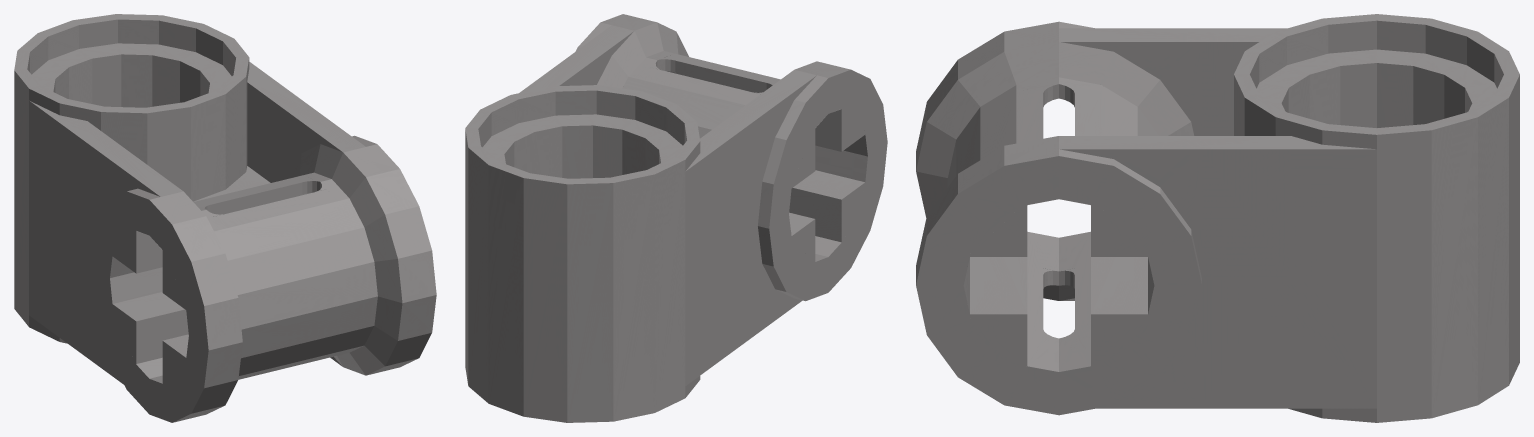
3 renders of one model, left to right at view 1: azimuth 30°, elevation 25°; view 2: azimuth 150°, elevation 25°; view 3: azimuth 270°, elevation 25°, orthographic. The views are drawn at different scales.
Parts seen in each view (by area): view 1: node; view 2: node; view 3: node.
Part boxes in pixels (x1,y1,x2,y2): node: [14, 14, 436, 422]; node: [465, 14, 887, 422]; node: [916, 14, 1519, 422].
Size of the model in its own units: 20 by 20 by 38.
Materials: 1 (1 with a texture image).
